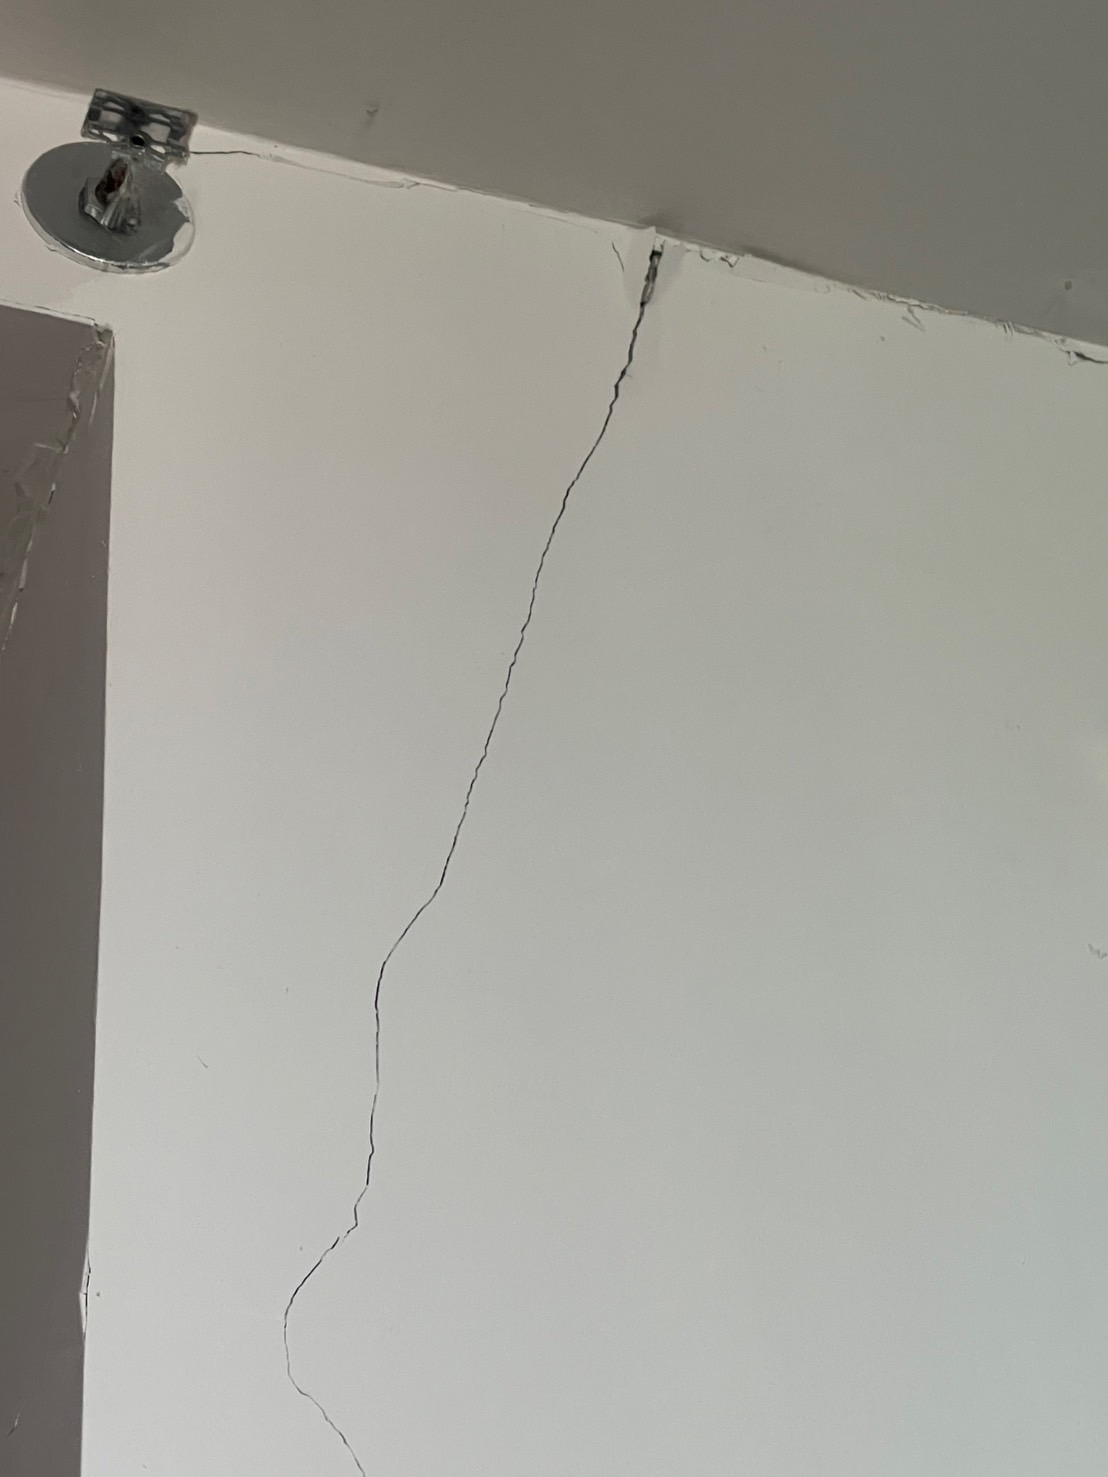Low: (280, 223, 713, 1461)
